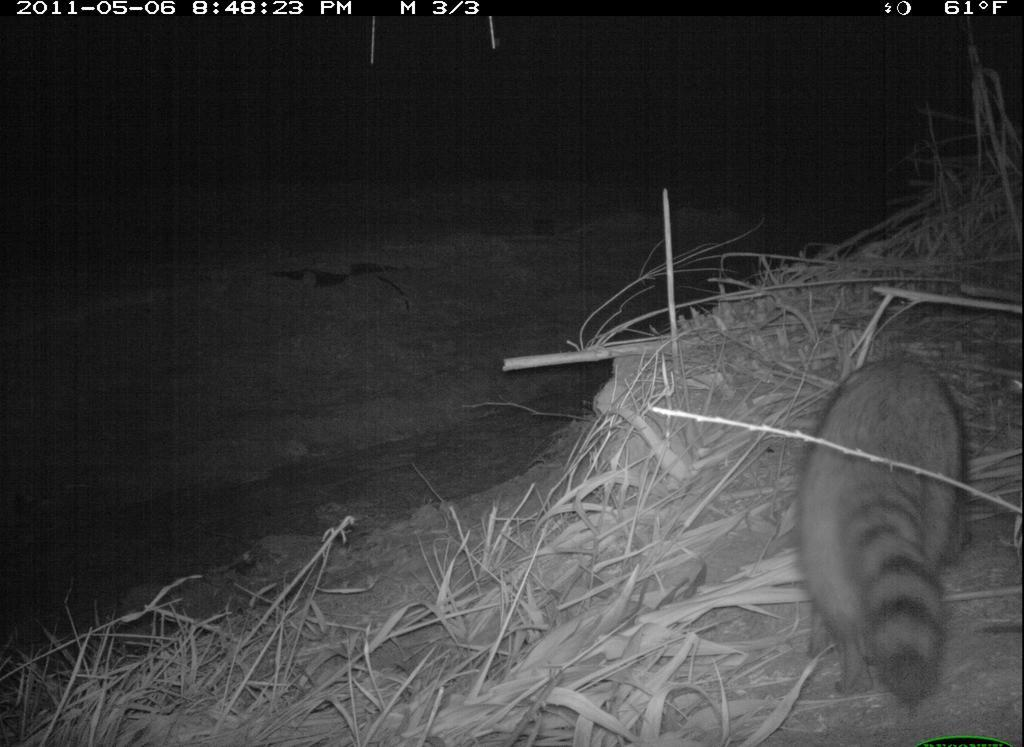raccoon: (792, 355, 990, 717)
